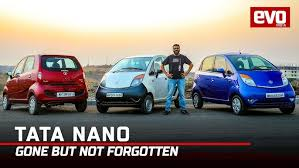Nano: (191, 53, 297, 118), (1, 54, 89, 117), (95, 55, 175, 114)
